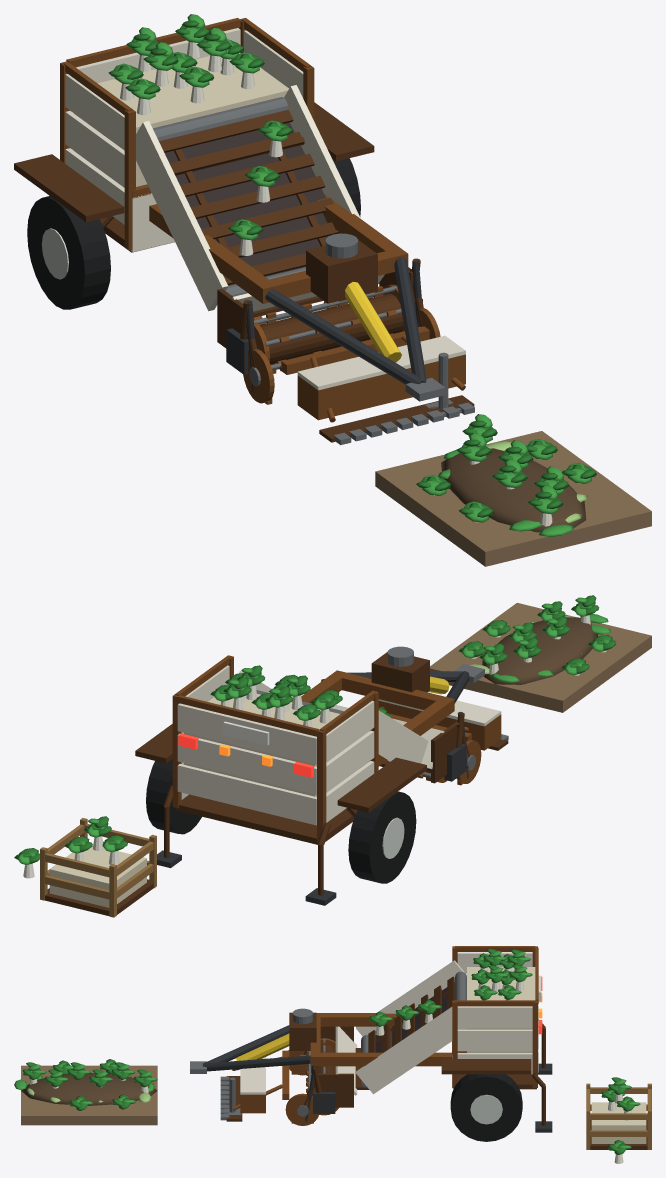
The model's file is bok_choy_harvester.glb.
3 renders of one model, top to bottom at view 1: azimuth 30°, elevation 25°; view 2: azimuth 150°, elevation 25°; view 3: azimuth 270°, elevation 25°, orthographic. The views are drawn at different scales.
Parts seen in each view (by area): view 1: BokChoyBody, BokChoyProps, BokChoyPickup; view 2: BokChoyBody, BokChoyProps; view 3: BokChoyBody, BokChoyProps, BokChoyPickup.
Part boxes in pixels (box(x1,y1,x2,y2)): BokChoyBody: box(14, 14, 474, 445); BokChoyProps: box(375, 414, 651, 566); BokChoyPickup: box(253, 284, 404, 373); BokChoyBody: box(135, 646, 508, 905); BokChoyProps: box(14, 595, 651, 917); BokChoyBody: box(190, 946, 552, 1141); BokChoyProps: box(14, 1059, 651, 1163); BokChoyPickup: box(306, 1038, 338, 1115).
Size of the model in its own units: 3.07 by 1.83 by 7.46.
